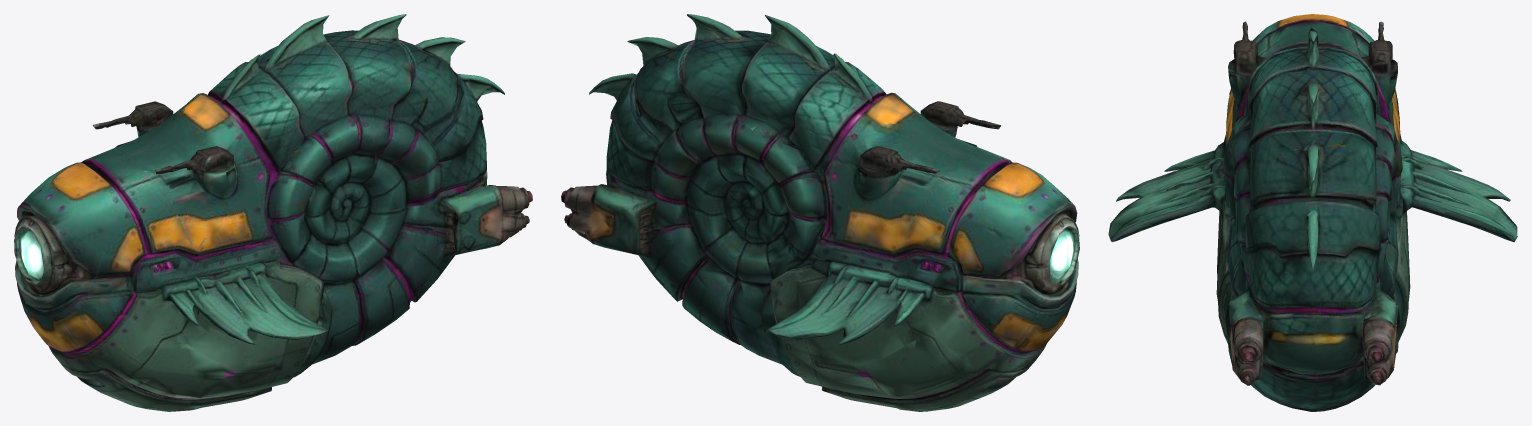
File: Aquarii_Probe.glb
3 views of the same model, side by side, from view 1: azimuth 30°, elevation 25°; view 2: azimuth 150°, elevation 25°; view 3: azimuth 270°, elevation 25° (orthographic). The views are drawn at different scales.
Bounding box in the file's own units: 1.9 × 1.34 × 1.27.
Materials: 1 (1 with a texture image).
